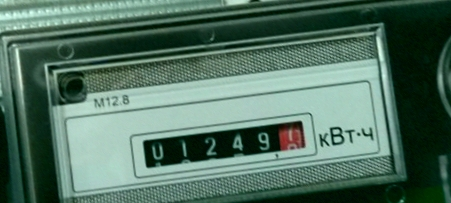0: (149, 139, 165, 161)
1: (176, 136, 190, 158)
2: (201, 133, 219, 157)
4: (229, 130, 245, 151)
7: (283, 120, 298, 142)
9: (255, 129, 271, 151)
screen: (125, 107, 321, 180)
